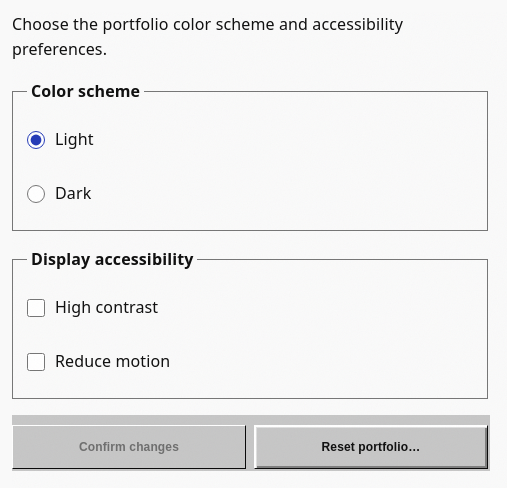
DisplayProperties › disables confirmation until a setting has changed
Expected: the button "Confirm changes" is disabled, [12, 425, 246, 469]
Step 1. Click the checkbox labelled "High contrast" → {"x": 36, "y": 308}, box [27, 299, 45, 317]
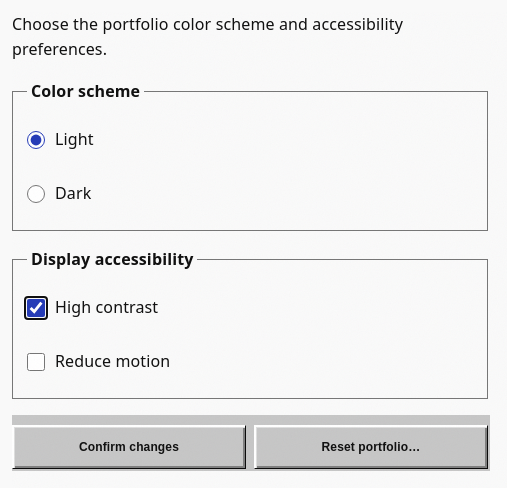
Expected: the button "Confirm changes" is enabled, [12, 425, 246, 469]
